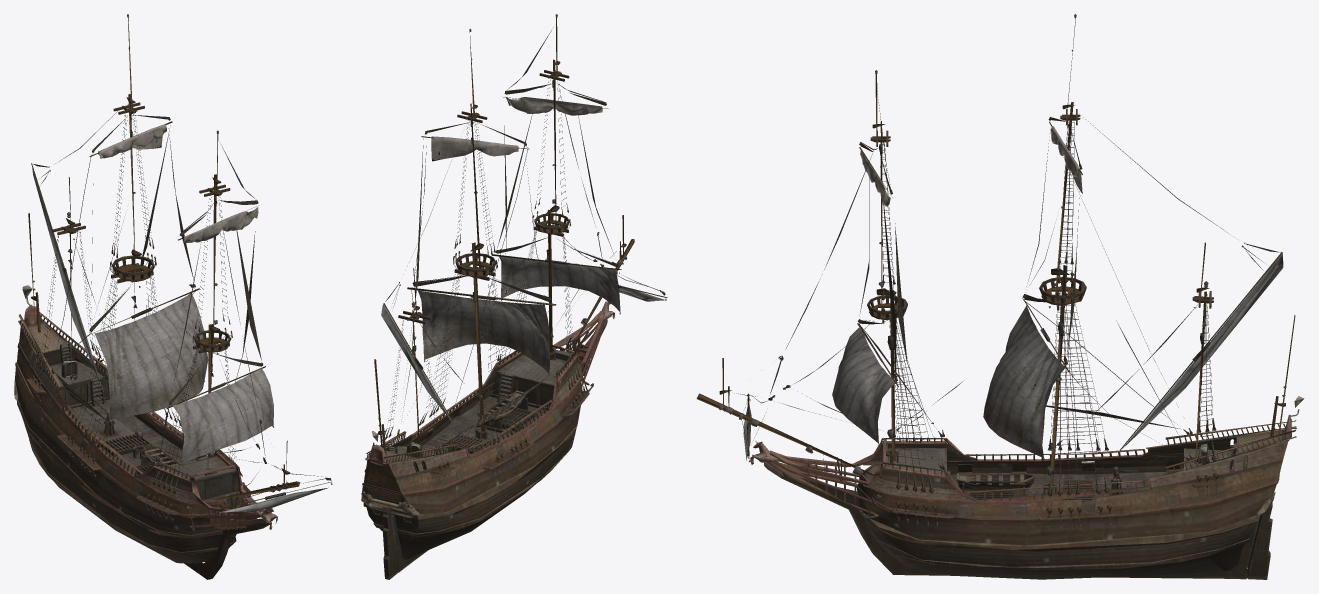
The picture shows the model from 3 angles, left to right: view 1: azimuth 30°, elevation 25°; view 2: azimuth 150°, elevation 25°; view 3: azimuth 270°, elevation 25°; orthographic projection. The views are drawn at different scales.
Bounding box in the file's own units: 6.8 × 24.66 × 24.06.
Materials: 3 (3 with a texture image).
